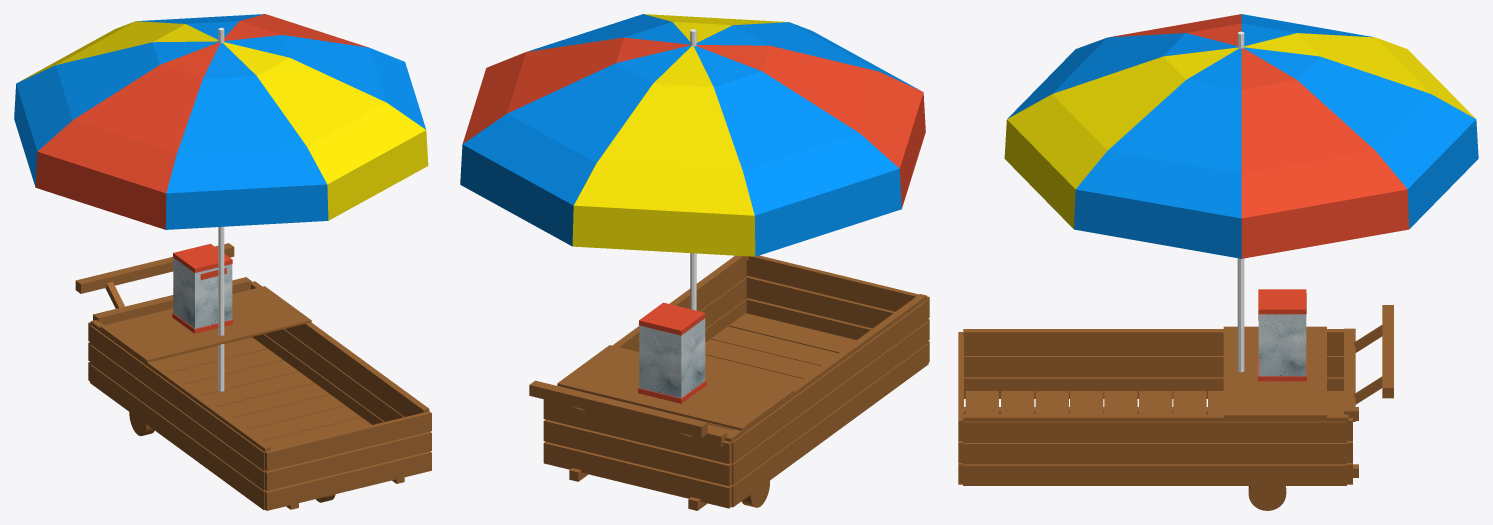
Rendered from bukostall.fbx.
3 renders of one model, left to right at view 1: azimuth 30°, elevation 25°; view 2: azimuth 150°, elevation 25°; view 3: azimuth 270°, elevation 25°, orthographic. The views are drawn at different scales.
Visible parts, largest first — view 1: umbrella, bukostall, bukojuice, pole; view 2: umbrella, bukostall, bukojuice, pole; view 3: umbrella, bukostall, bukojuice, pole, wheel.001.
Part boxes in pixels (x1,y1,x2,y2): umbrella: (14, 14, 428, 229); bukostall: (75, 243, 431, 510); bukojuice: (172, 243, 233, 333); pole: (218, 28, 224, 391); umbrella: (460, 14, 925, 256); bukostall: (529, 255, 929, 510); bukojuice: (638, 302, 706, 403); pole: (690, 29, 696, 419); umbrella: (1004, 14, 1478, 258); bukostall: (958, 305, 1393, 485); bukojuice: (1257, 289, 1306, 381); pole: (1237, 31, 1244, 372); wheel.001: (1248, 486, 1286, 510).
Size of the model in its own units: 5.38 by 5.5 by 5.91.
6 materials, 1 textured.
